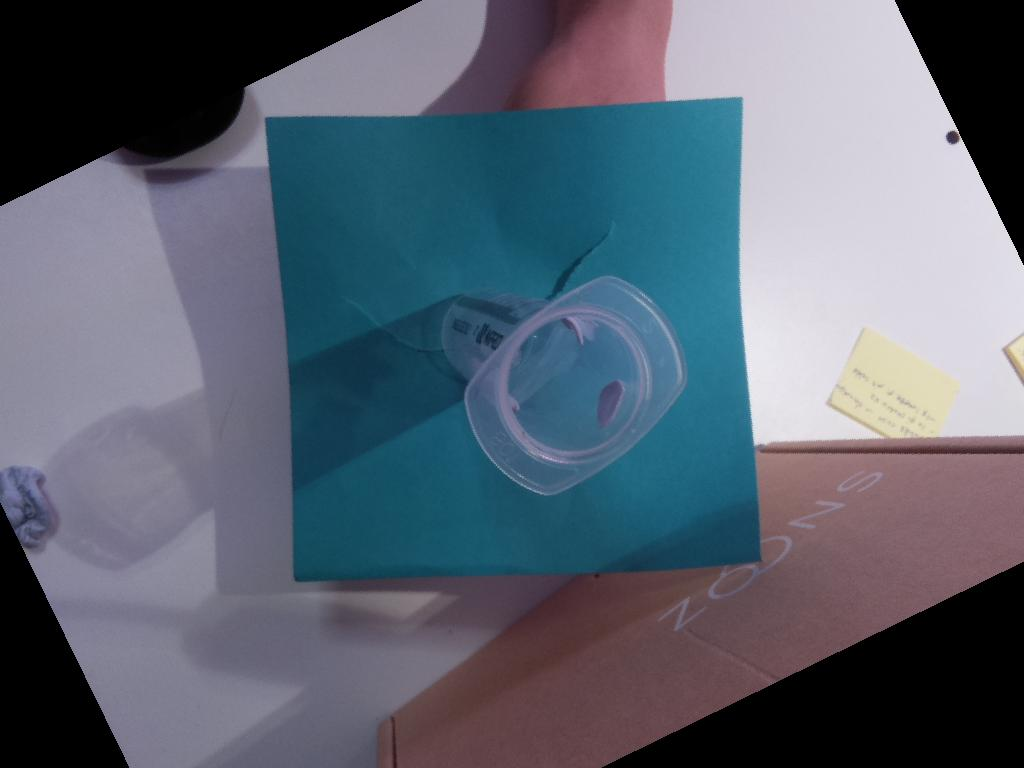dirty: (465, 278, 686, 497)
